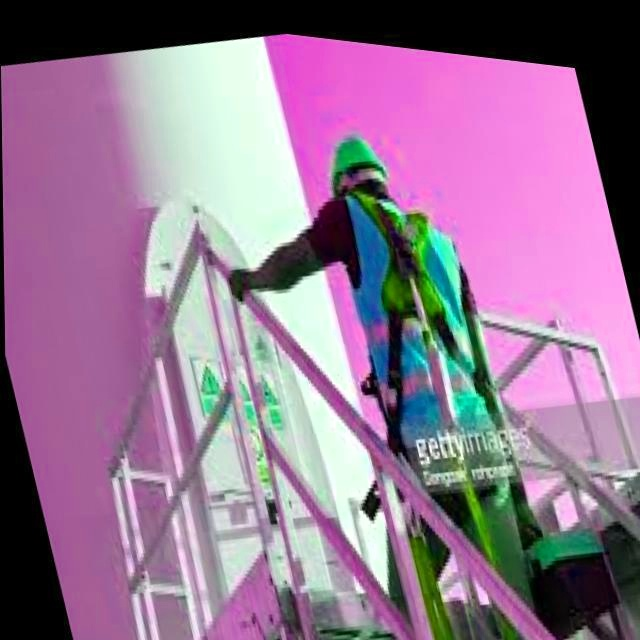safety belt: (302, 200, 540, 503)
